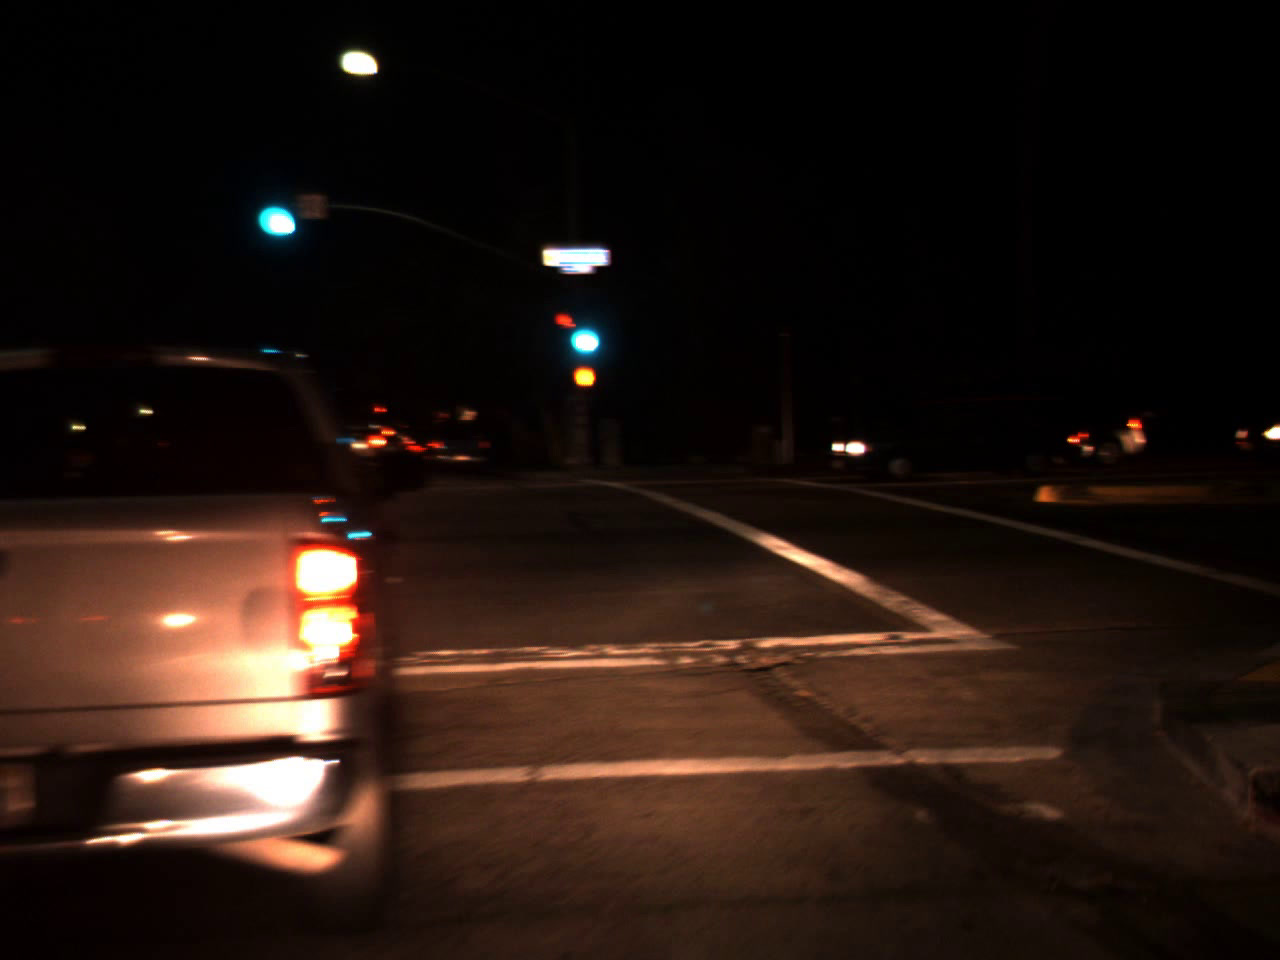go: (251, 171, 303, 249), (558, 297, 606, 363)
